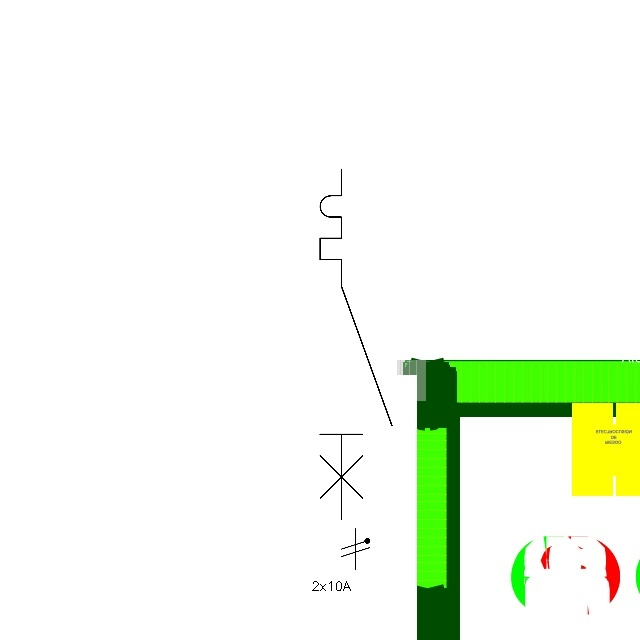interruptor_termomagnetico: (311, 160, 401, 529)
